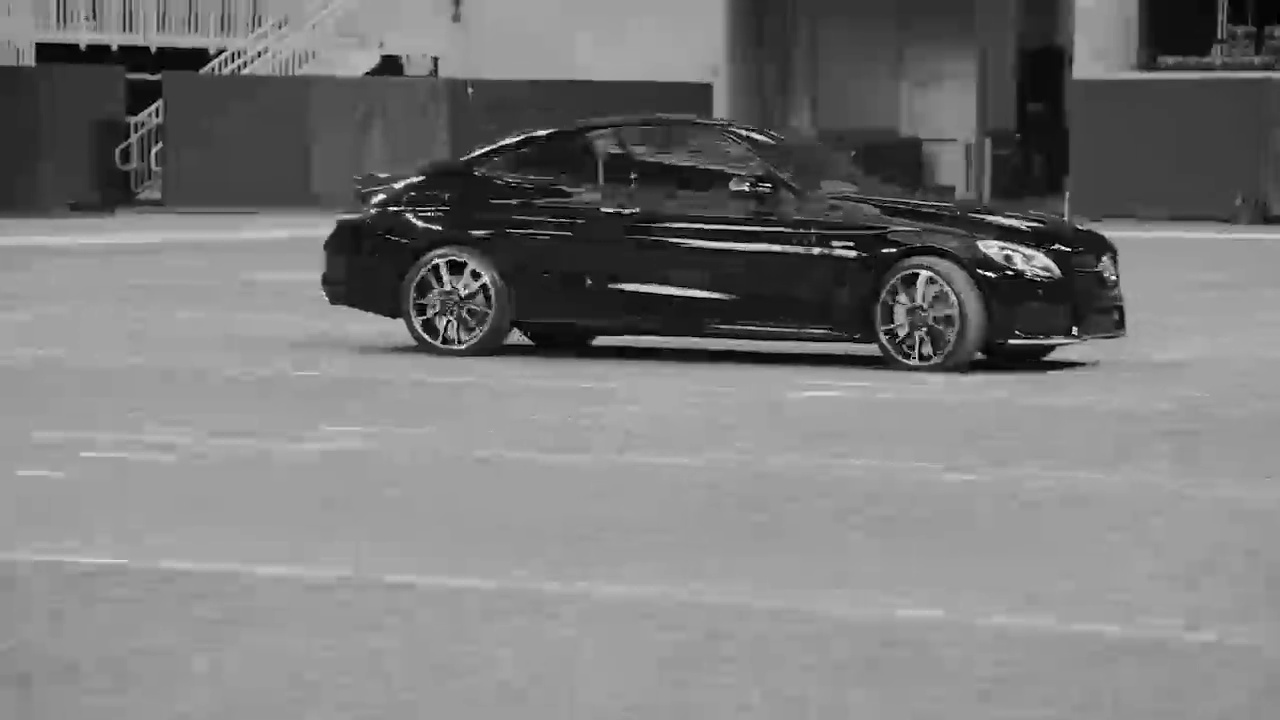car: (310, 116, 1136, 369)
